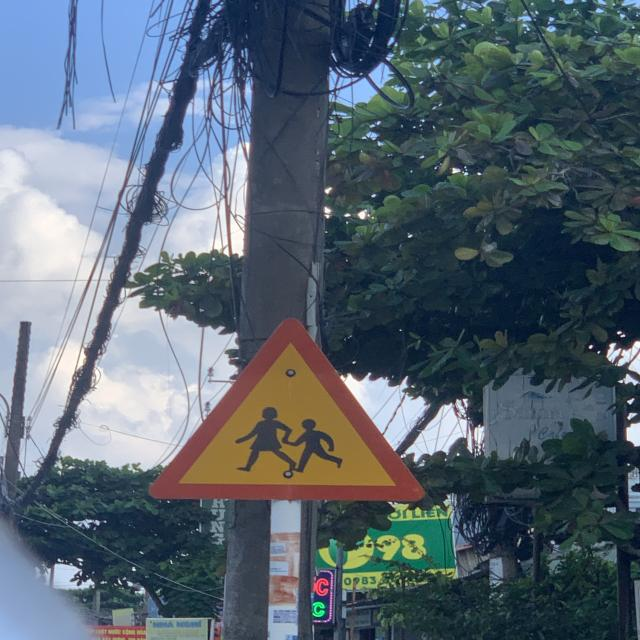Vong_Xuyen: (148, 319, 430, 502)
